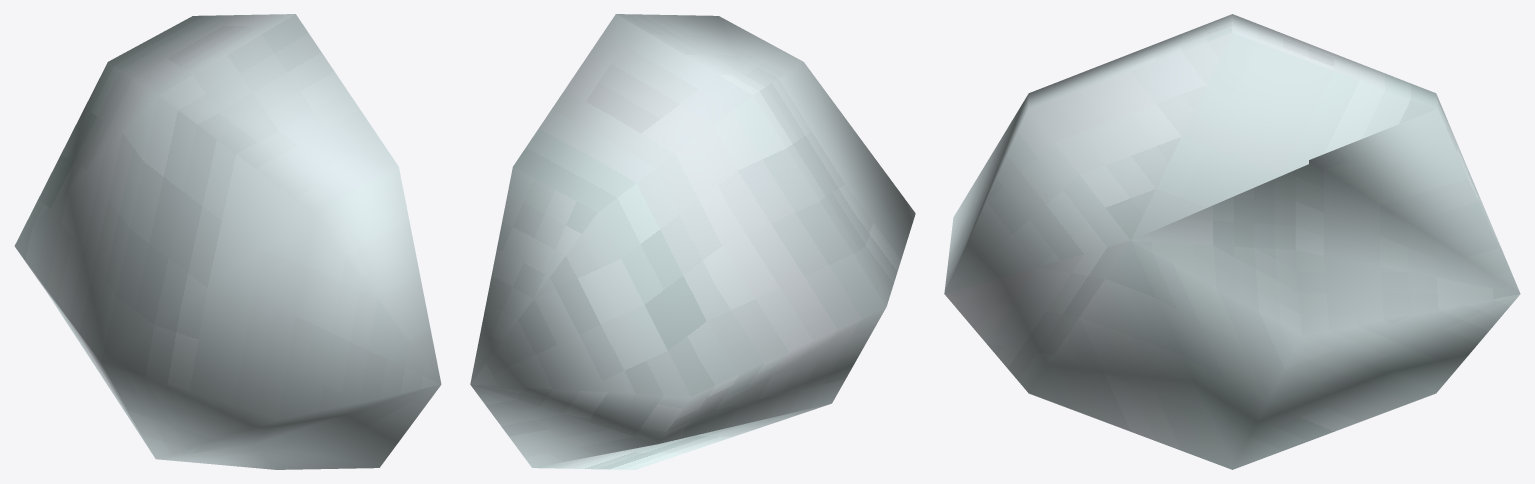
Rendered from Snow02.glb.
The picture shows the model from 3 angles, left to right: view 1: azimuth 30°, elevation 25°; view 2: azimuth 150°, elevation 25°; view 3: azimuth 270°, elevation 25°; orthographic projection.
Parts seen in each view (by area): view 1: model_Snow02; view 2: model_Snow02; view 3: model_Snow02.
Boxes of the visible parts, x1,y1,x2,y2 form: model_Snow02: (14,14,441,469); model_Snow02: (470,14,915,469); model_Snow02: (944,14,1520,469).
Bounding box in the file's own units: 0.1118 × 0.2072 × 0.2424.
Materials: 1 (1 with a texture image).
